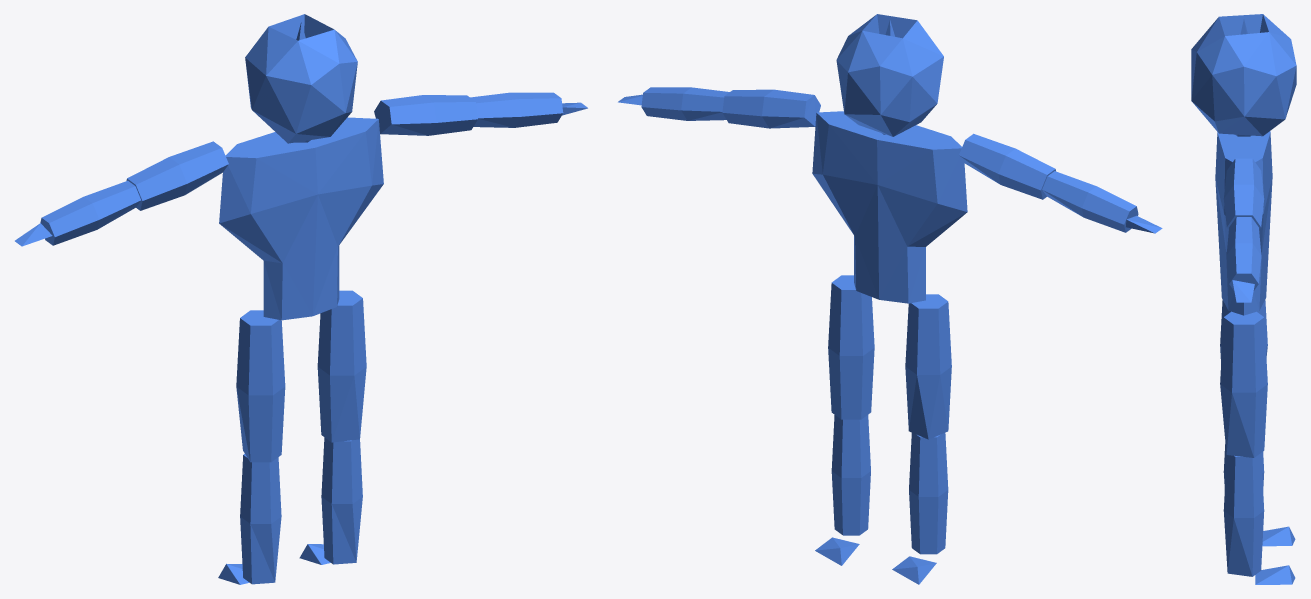
File: ec89ff38-e8e8-470d-8a21-f4dba1a49f45.glb
3 renders of one model, left to right at view 1: azimuth 30°, elevation 25°; view 2: azimuth 150°, elevation 25°; view 3: azimuth 270°, elevation 25°, orthographic. The views are drawn at different scales.
Parts seen in each view (by area): view 1: Torso, Head, Leg_L_Upper, Leg_R_Upper, Leg_R_Lower, Leg_L_Lower, Arm_R_Upper, Arm_L_Upper, Arm_L_Lower, Arm_R_Lower; view 2: Torso, Head, Leg_L_Upper, Leg_R_Upper, Leg_L_Lower, Leg_R_Lower, Arm_R_Upper, Arm_L_Upper, Arm_L_Lower, Arm_R_Lower, Foot_R, Foot_L; view 3: Head, Leg_R_Upper, Torso, Leg_R_Lower, Arm_R_Upper, Arm_R_Lower, Foot_R, Foot_L, Hand_R, Leg_L_Upper, Leg_L_Lower.
Boxes of the visible parts, bbox=[...] form: Torso: bbox=[219, 117, 383, 320]; Head: bbox=[245, 14, 357, 143]; Leg_L_Upper: bbox=[236, 310, 285, 462]; Leg_R_Upper: bbox=[317, 290, 366, 442]; Leg_R_Lower: bbox=[321, 437, 362, 564]; Leg_L_Lower: bbox=[240, 454, 281, 584]; Arm_R_Upper: bbox=[374, 95, 477, 135]; Arm_L_Upper: bbox=[126, 141, 228, 210]; Arm_L_Lower: bbox=[40, 180, 141, 245]; Arm_R_Lower: bbox=[470, 92, 563, 127]; Torso: bbox=[812, 111, 967, 303]; Head: bbox=[836, 14, 943, 136]; Leg_L_Upper: bbox=[905, 294, 951, 439]; Leg_R_Upper: bbox=[828, 275, 874, 419]; Leg_L_Lower: bbox=[909, 433, 948, 554]; Leg_R_Lower: bbox=[831, 415, 870, 535]; Arm_R_Upper: bbox=[722, 89, 820, 128]; Arm_L_Upper: bbox=[959, 133, 1055, 199]; Arm_L_Lower: bbox=[1042, 171, 1138, 232]; Arm_R_Lower: bbox=[641, 87, 729, 120]; Foot_R: bbox=[815, 537, 859, 565]; Foot_L: bbox=[892, 556, 936, 584]; Head: bbox=[1191, 14, 1296, 136]; Leg_R_Upper: bbox=[1220, 311, 1267, 457]; Torso: bbox=[1215, 131, 1272, 315]; Leg_R_Lower: bbox=[1223, 453, 1264, 576]; Arm_R_Upper: bbox=[1223, 158, 1264, 229]; Arm_R_Lower: bbox=[1226, 217, 1261, 290]; Foot_R: bbox=[1255, 565, 1295, 584]; Foot_L: bbox=[1262, 526, 1295, 546]; Hand_R: bbox=[1232, 280, 1254, 302]; Leg_L_Upper: bbox=[1220, 300, 1267, 363]; Leg_L_Lower: bbox=[1223, 443, 1264, 489].
Size of the model in its own units: 1.56 by 1.48 by 0.2573.
